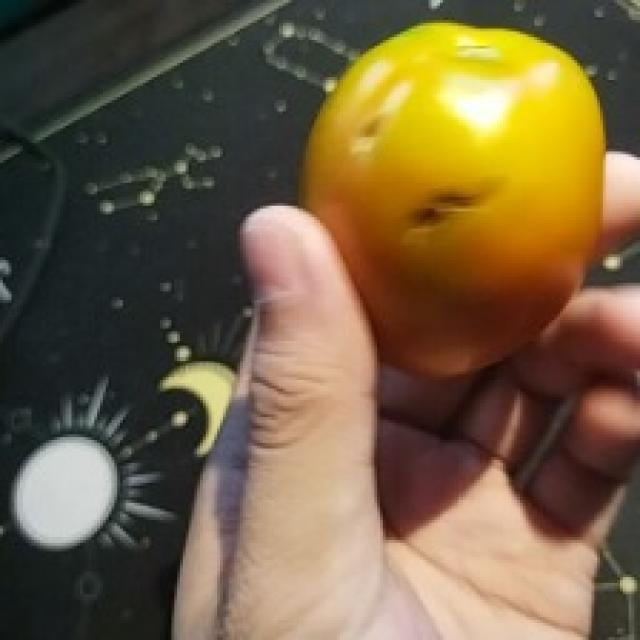Rotten Tomato: (266, 0, 624, 405)
